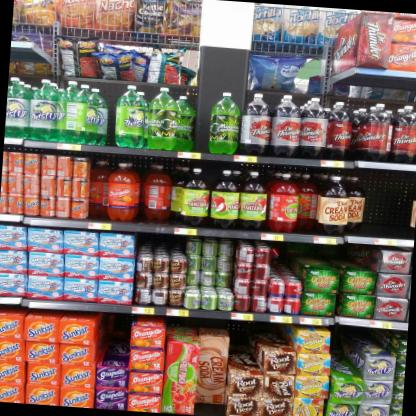empty_space: (366, 167, 414, 238), (182, 93, 213, 152), (91, 89, 121, 145)
